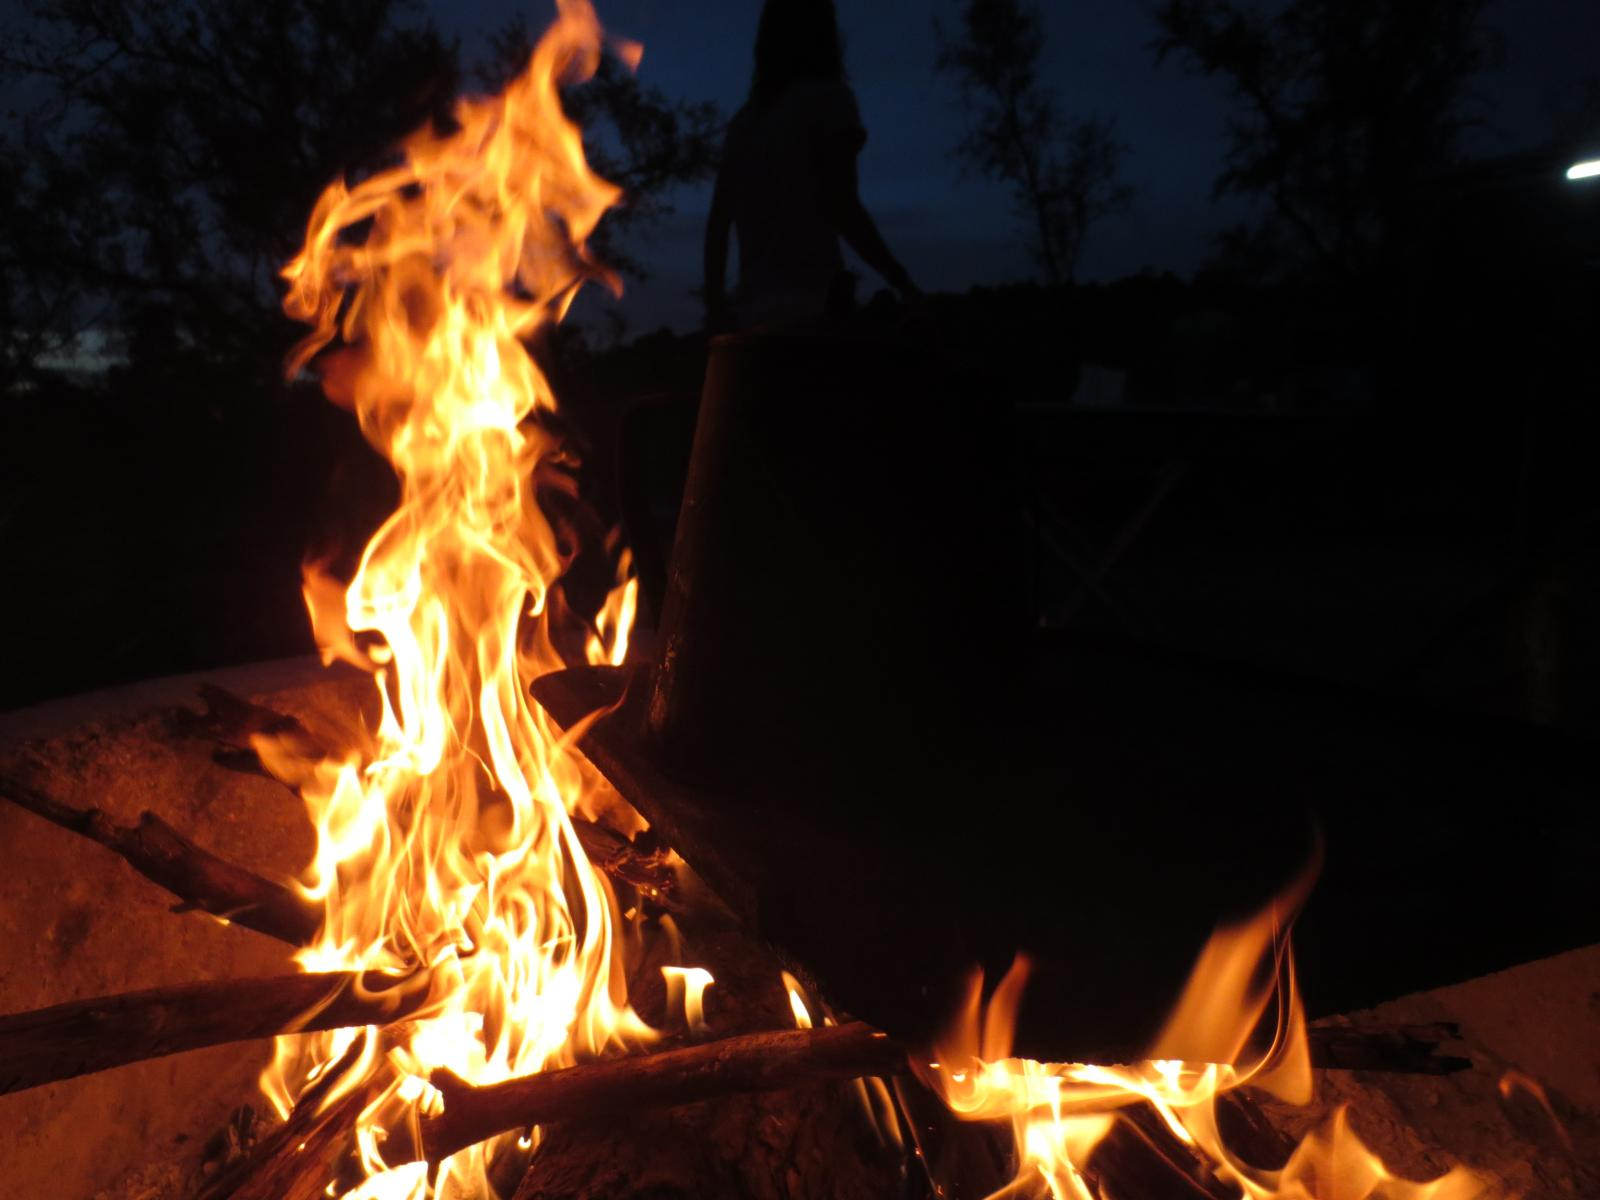fire: (191, 37, 703, 1168), (910, 881, 1450, 1200)
